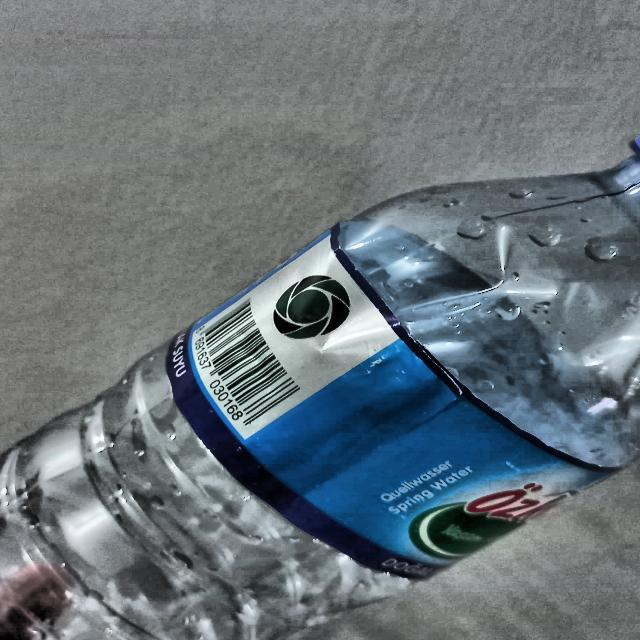plastic: (0, 124, 640, 640)
